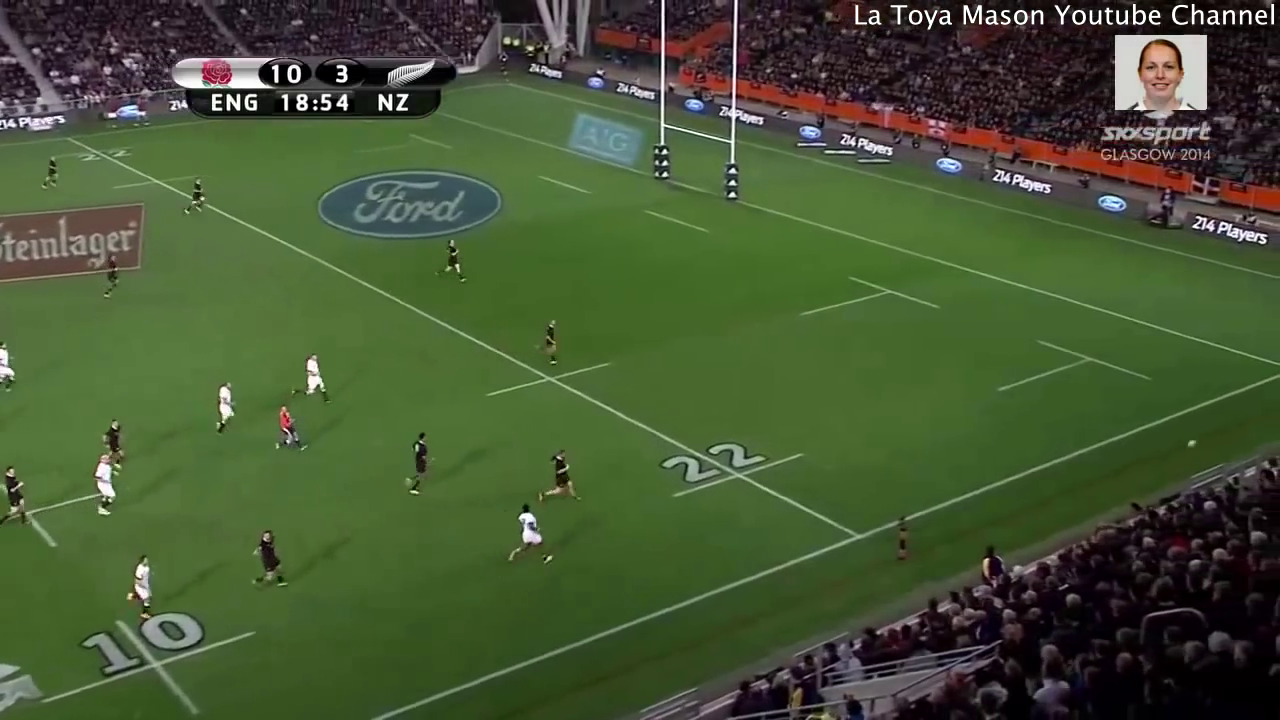10_metre: (37, 610, 257, 720), (1, 480, 113, 552)
player: (509, 498, 558, 568), (120, 546, 161, 626), (529, 450, 586, 504), (286, 352, 337, 407), (247, 527, 289, 590), (1, 458, 36, 528), (401, 431, 437, 496), (267, 401, 312, 452), (90, 450, 117, 517), (213, 376, 240, 442), (435, 236, 469, 288), (534, 312, 563, 370), (99, 412, 128, 470), (179, 174, 211, 220), (97, 252, 124, 300), (1, 331, 20, 393), (41, 156, 61, 188)
post: (649, 42, 742, 206)
